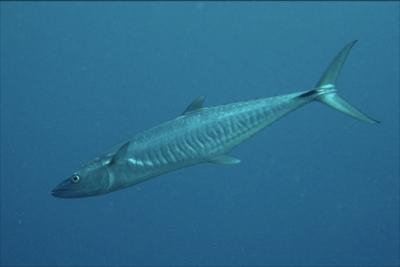Scombridae -Tunas-: (46, 35, 387, 203)
